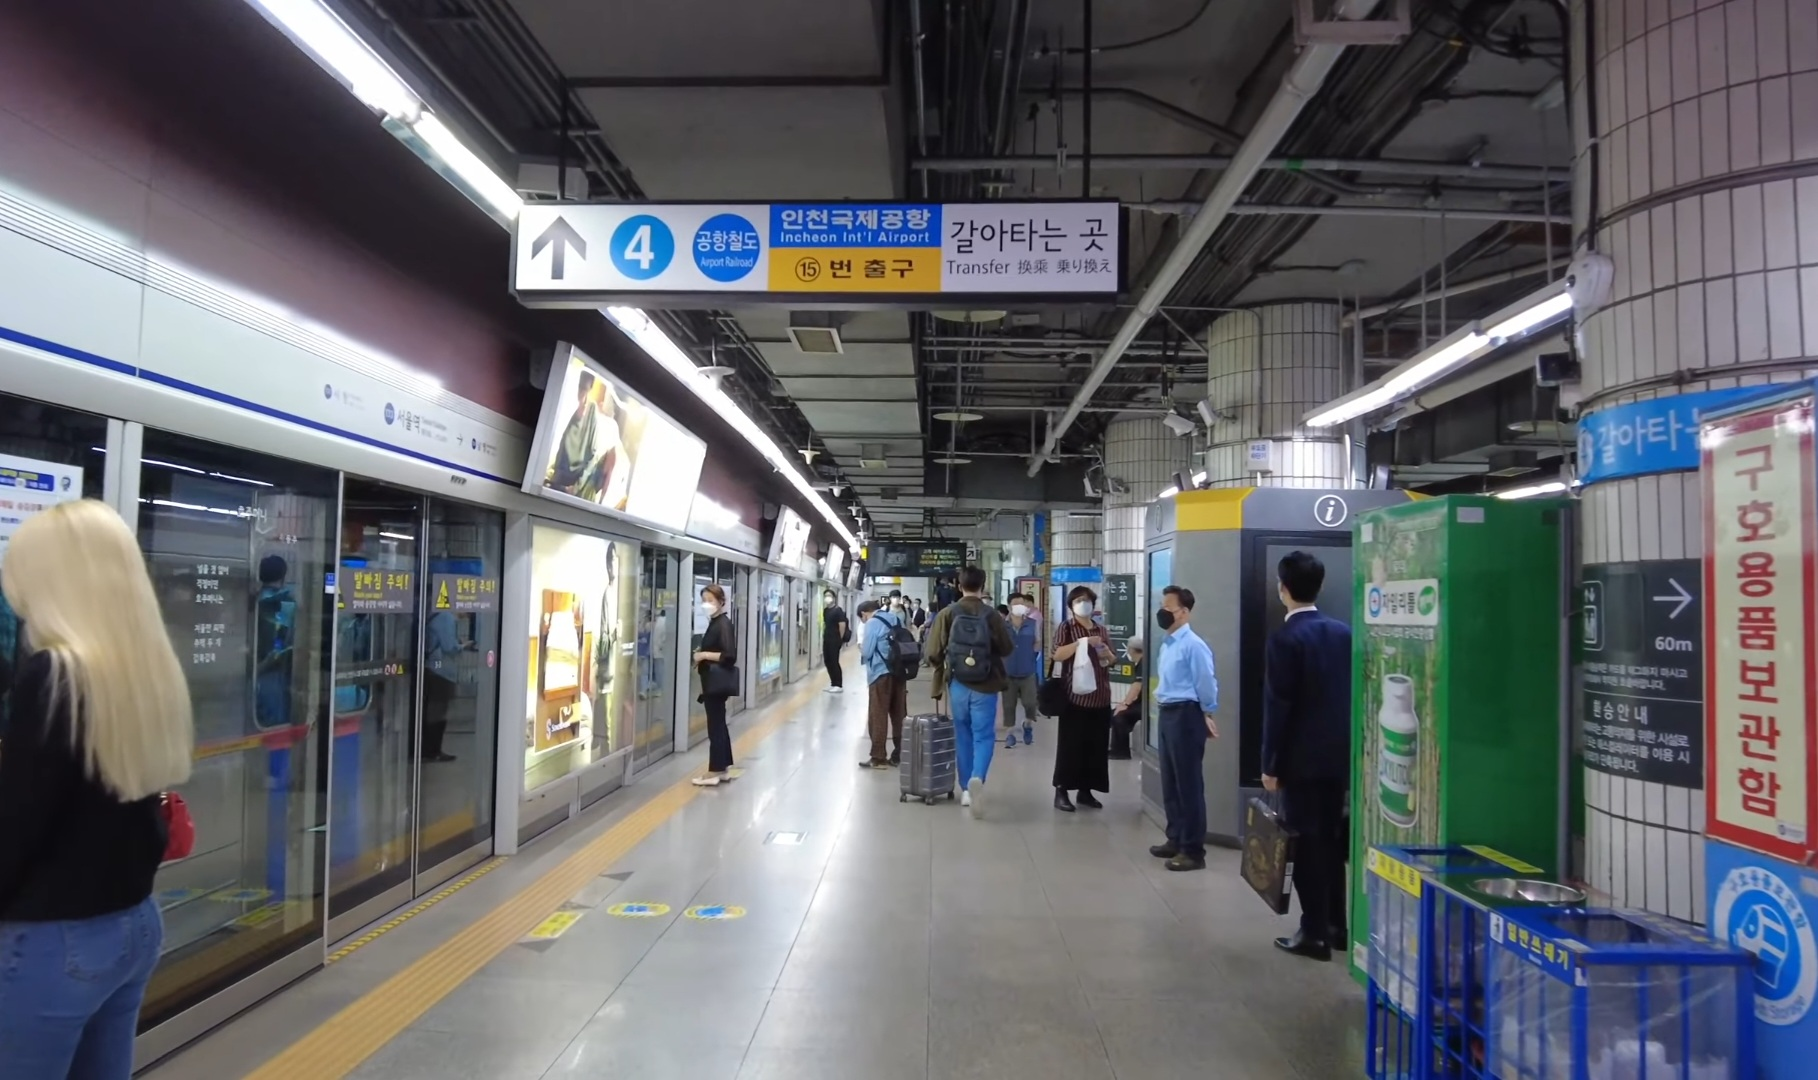signBoard: (478, 134, 1140, 315)
